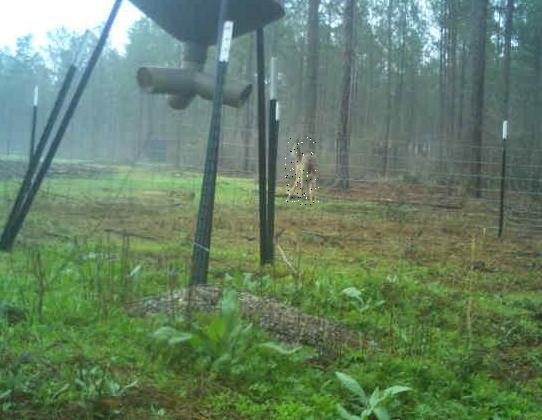Deer: (283, 138, 318, 206)
